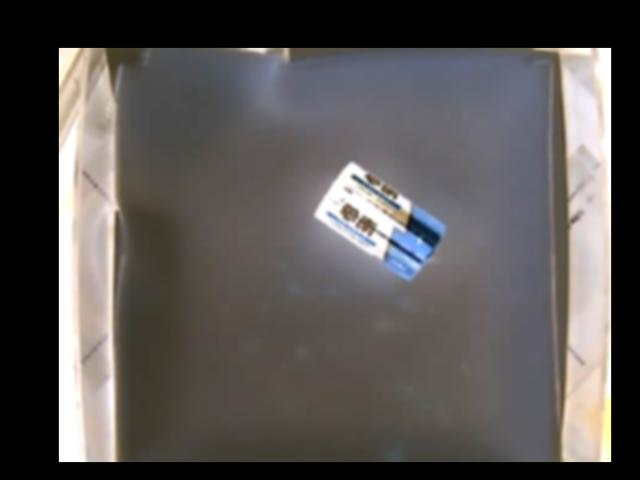Battery: (314, 162, 445, 280)
